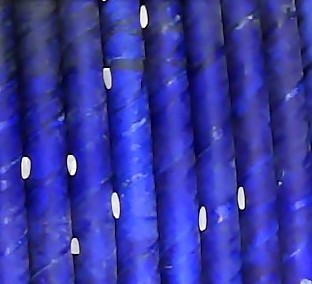broken_grain: (102, 66, 116, 91), (70, 235, 82, 258)
complete_grain: (110, 191, 124, 221), (19, 154, 33, 181), (198, 202, 209, 236), (137, 2, 150, 30), (236, 184, 248, 213), (66, 152, 78, 179)
